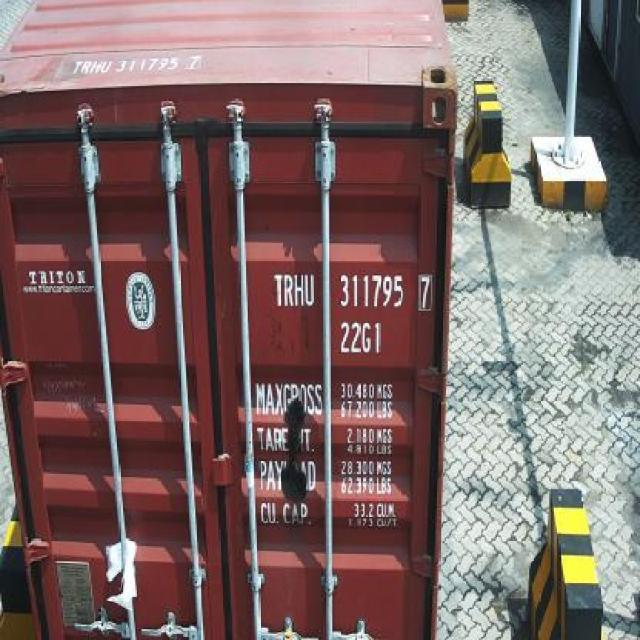ISO: (337, 321, 381, 353)
container_number: (280, 274, 428, 308)
